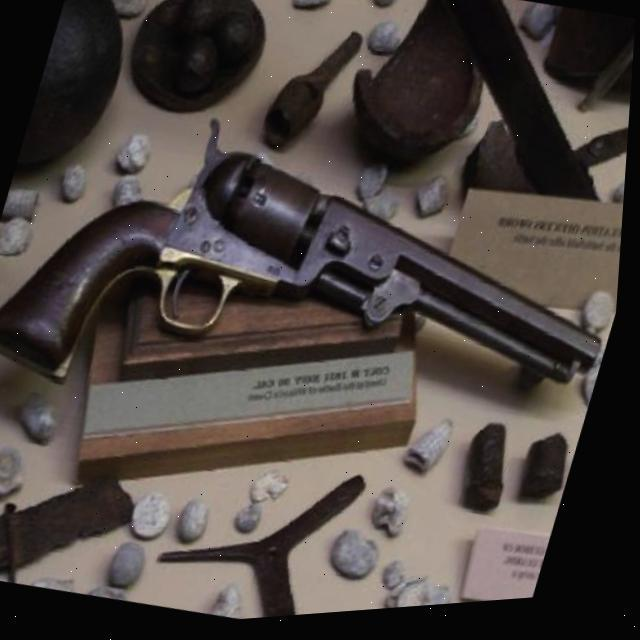gun: (0, 58, 635, 499)
